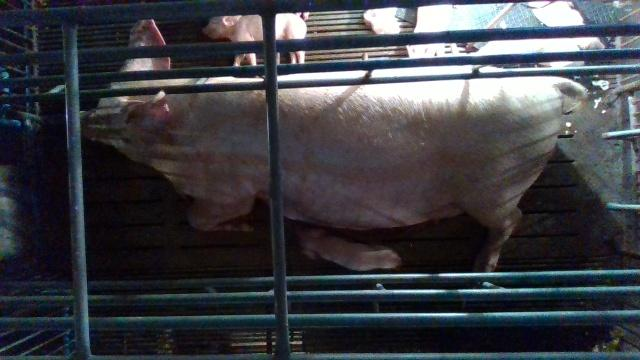piglet: (202, 12, 308, 65), (295, 226, 399, 270), (529, 0, 605, 51), (468, 36, 585, 68), (407, 4, 458, 59), (364, 6, 400, 34)
sow-sleep: (79, 17, 588, 273)
